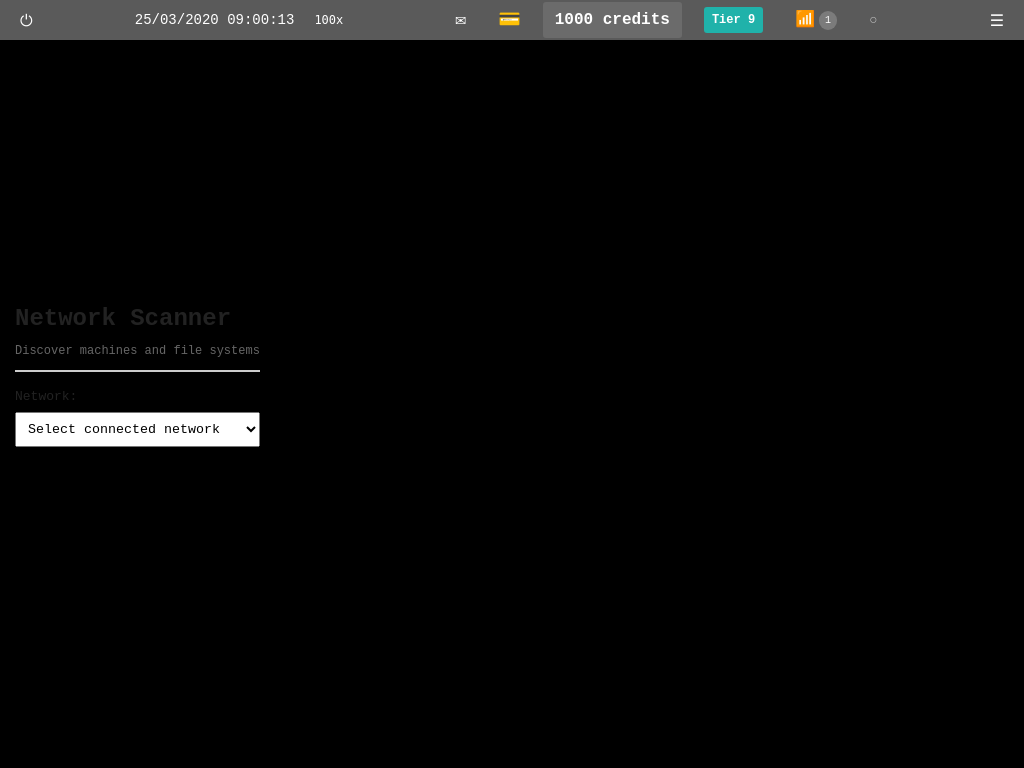
Test case: Network Scanner Integration › should show all devices including workstations on scan
Expected: the text titled "Click to open Banking App" shows "credits", [593,11,670,29]
Note: Select network
Select "Corporate Network" in the dropdown labelled "Network:" at (137, 429), box [15,412,260,447]
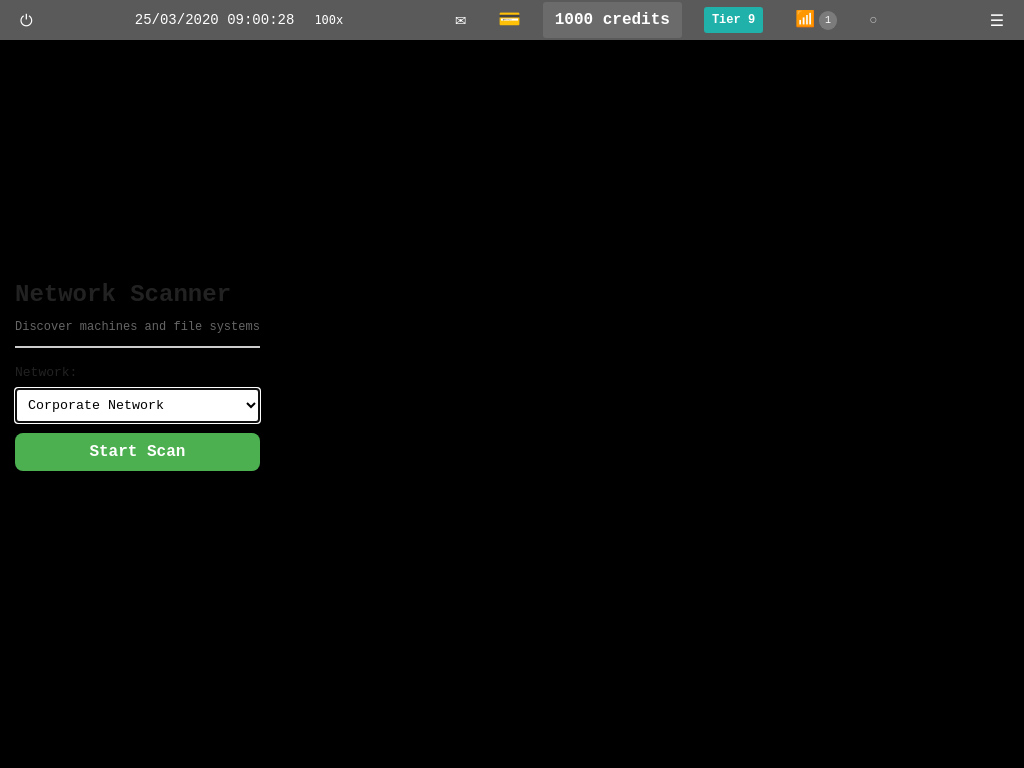
Click the button "Start Scan" at (137, 452), box [15,433,260,471]
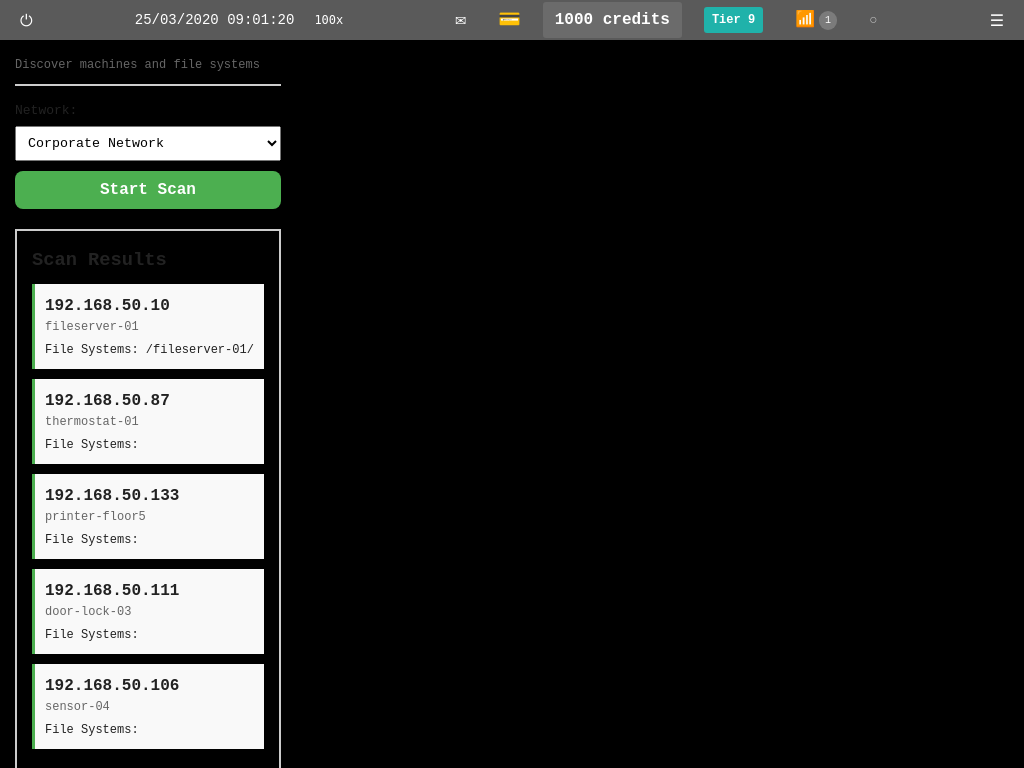
Now the heading "Scan Results" is shown, box [32,248,167,270]
Now the text "fileserver-01" is shown, box [45,320,139,334]
